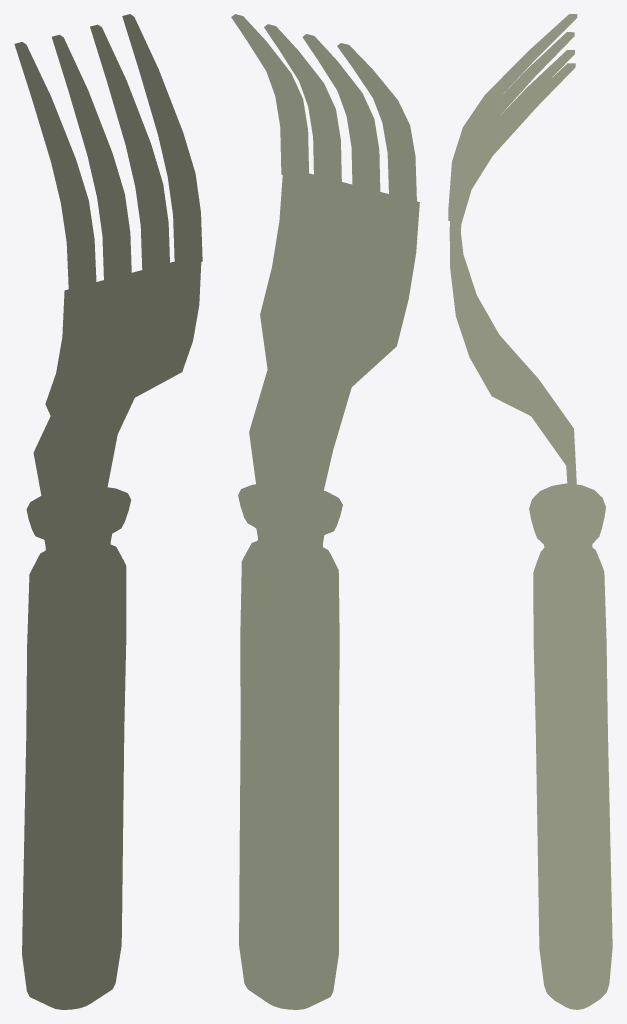
File: fork1.dae
3 renders of one model, left to right at view 1: azimuth 30°, elevation 25°; view 2: azimuth 150°, elevation 25°; view 3: azimuth 270°, elevation 25°, orthographic.
Visible parts, largest first — view 1: STL object-0; view 2: STL object-0; view 3: STL object-0.
Part boxes in pixels (left/top/right/bottom): STL object-0: left=14, top=14, right=202, bottom=1009; STL object-0: left=231, top=14, right=419, bottom=1009; STL object-0: left=448, top=14, right=612, bottom=1009.
Size of the model in its own units: 0.0271 by 0.1879 by 0.029.
